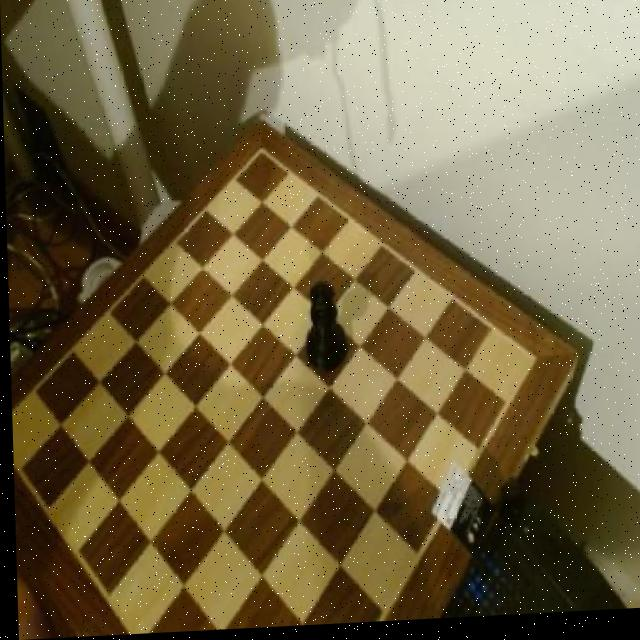black-pawn: (299, 274, 350, 379)
